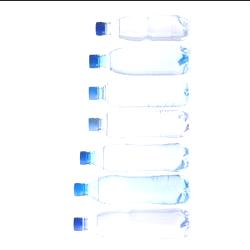bottle: (73, 206, 190, 244), (74, 172, 192, 206), (86, 42, 195, 76), (75, 140, 190, 172), (82, 108, 193, 139), (84, 76, 191, 108), (88, 12, 195, 42)
